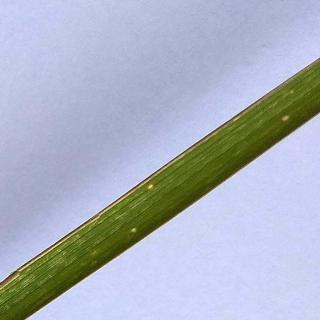Blast: (275, 106, 301, 131), (124, 223, 147, 247), (140, 176, 158, 193)
